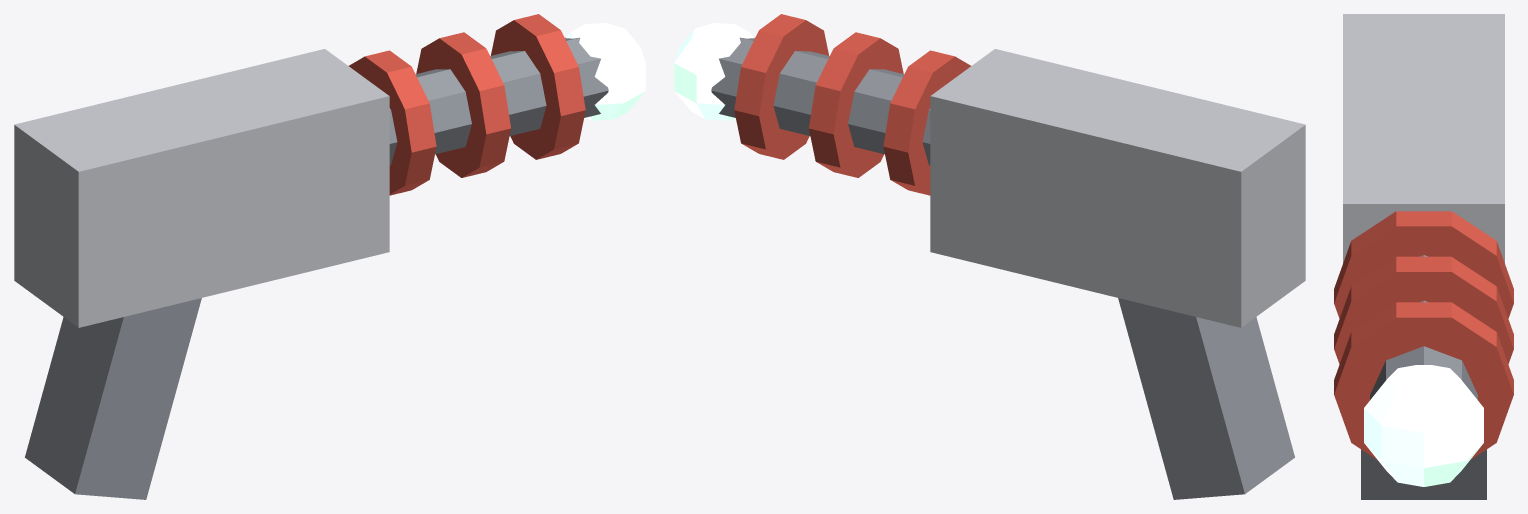
Rendered from item_laser.glb.
3 renders of one model, left to right at view 1: azimuth 30°, elevation 25°; view 2: azimuth 150°, elevation 25°; view 3: azimuth 270°, elevation 25°, orthographic. The views are drawn at different scales.
Visible parts, largest first — view 1: item_laser; view 2: item_laser; view 3: item_laser.
Part boxes in pixels (bbox=[...]): item_laser: bbox=[14, 14, 645, 499]; item_laser: bbox=[674, 14, 1305, 499]; item_laser: bbox=[1334, 14, 1513, 499].
Bounding box in the file's own units: 0.9566 × 0.5457 × 0.2.
